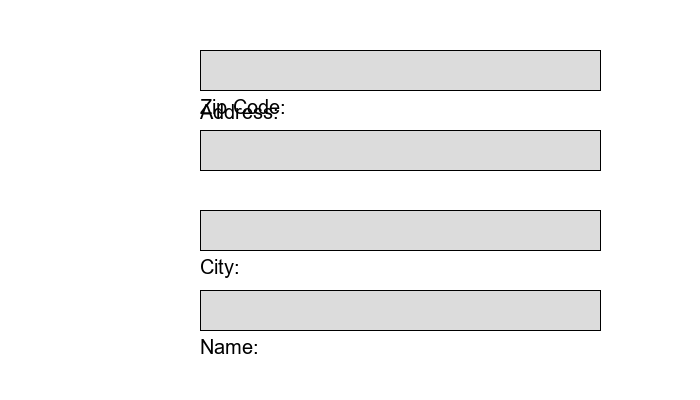Label: (200, 95, 280, 114), (200, 100, 274, 115), (200, 335, 253, 350), (200, 255, 234, 274)
Textbox: (200, 50, 600, 90), (200, 130, 600, 170), (200, 210, 600, 250), (200, 290, 600, 330)
